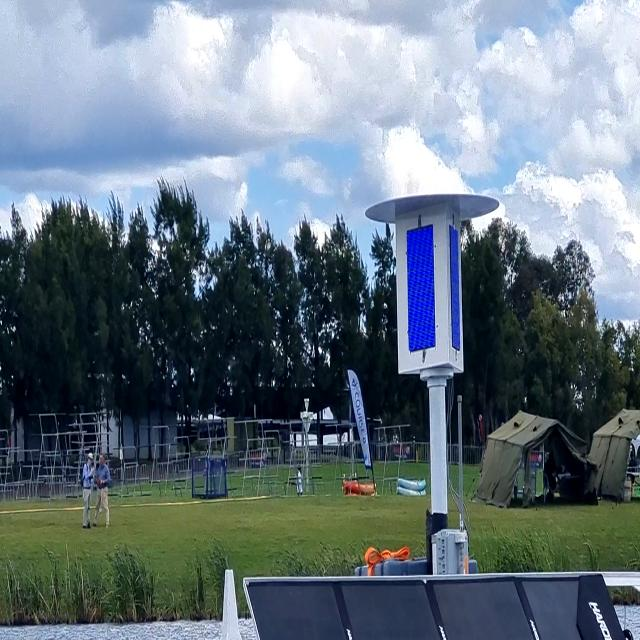led: (399, 217, 444, 355)
